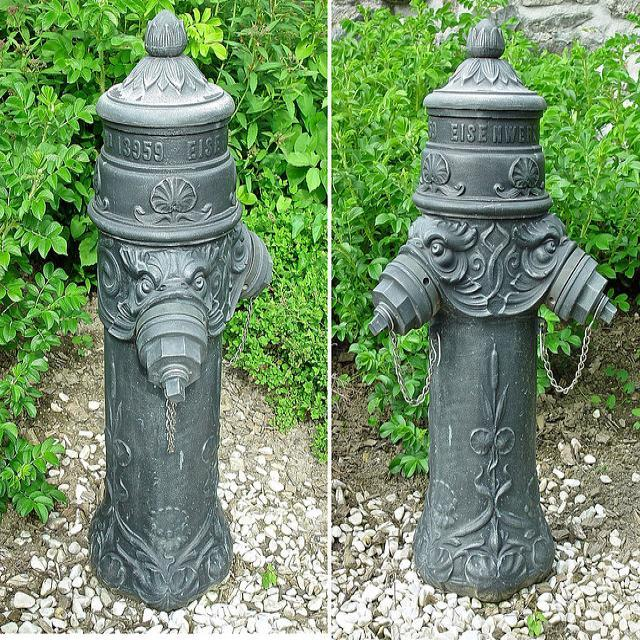fire_hydrant: (368, 16, 617, 604), (83, 4, 277, 610)
